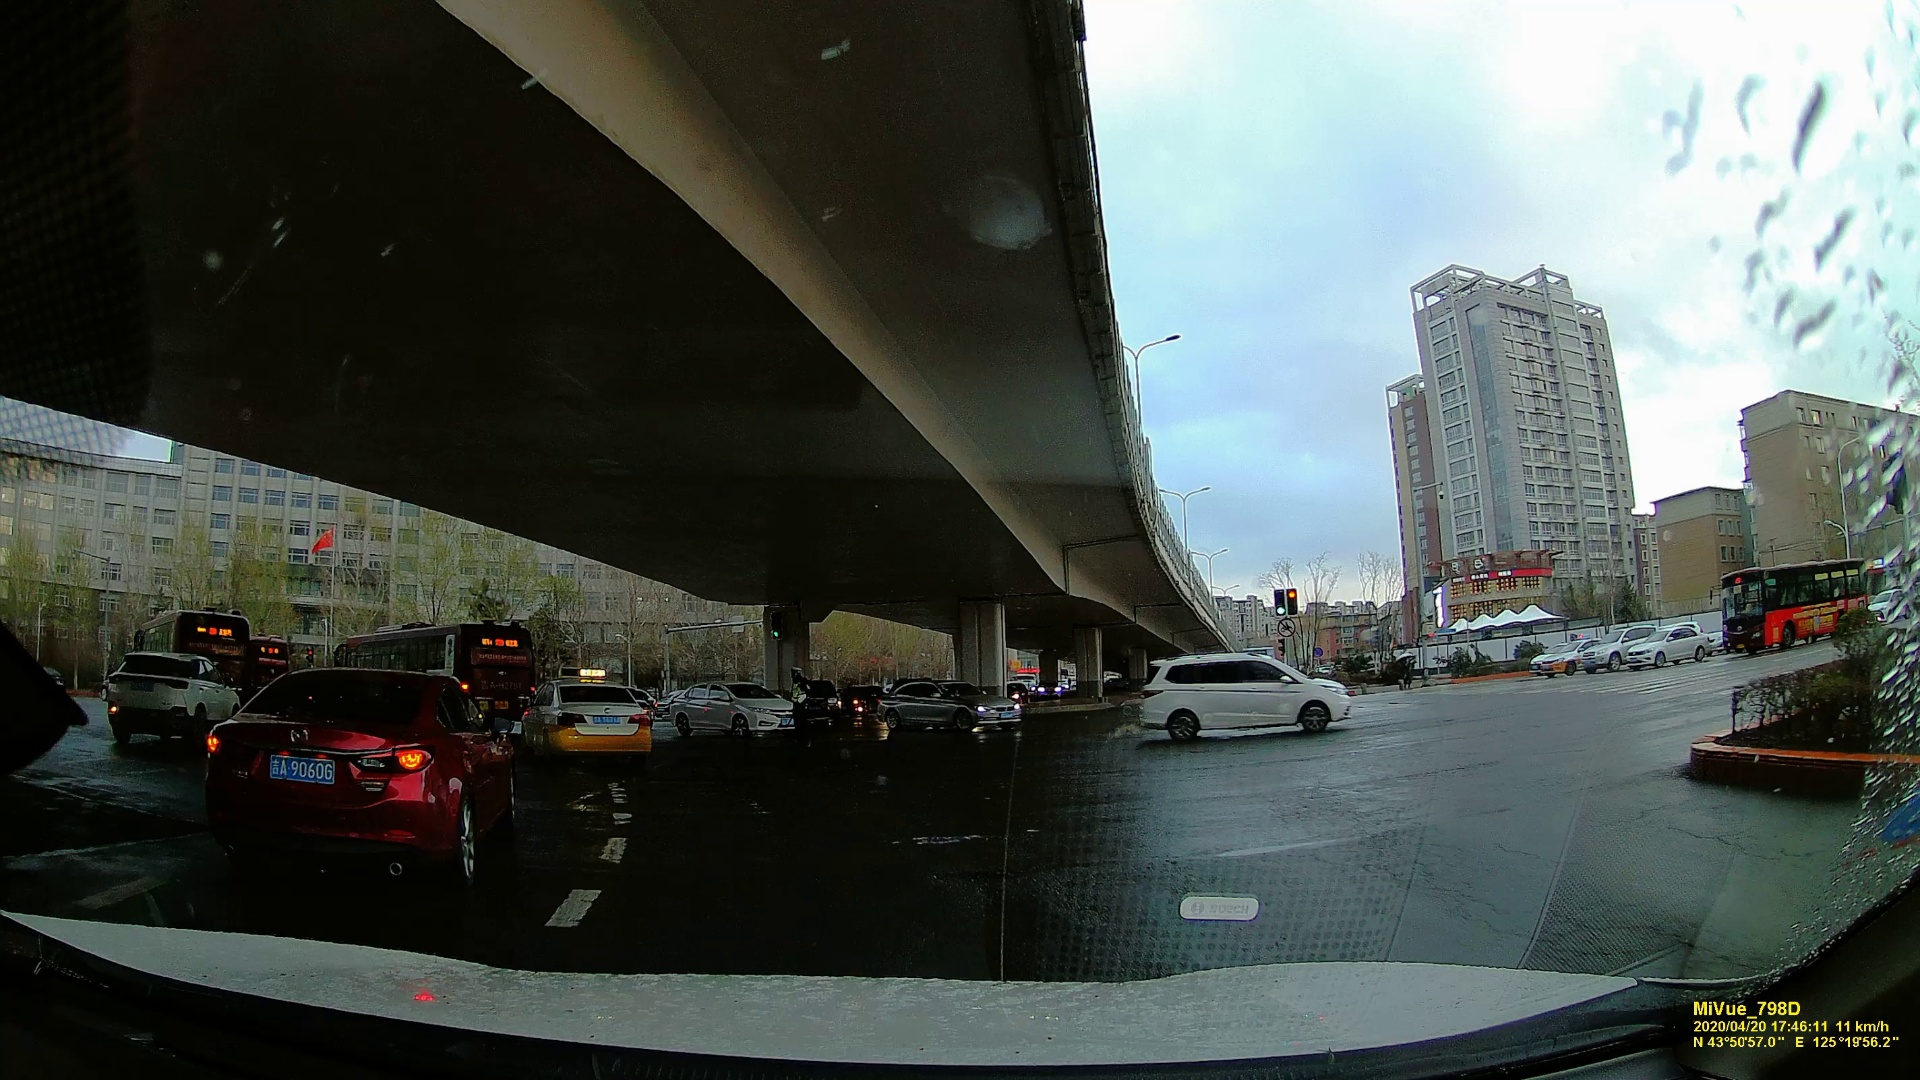bus: (1720, 562, 1888, 651), (338, 626, 537, 698), (142, 611, 251, 675)
traffic_sign: (1273, 589, 1286, 616), (1286, 588, 1298, 617)
vehicle: (200, 678, 509, 882), (1135, 647, 1356, 742), (98, 647, 244, 745), (521, 679, 657, 766), (873, 676, 1021, 735), (673, 680, 796, 744), (1626, 624, 1708, 669)
